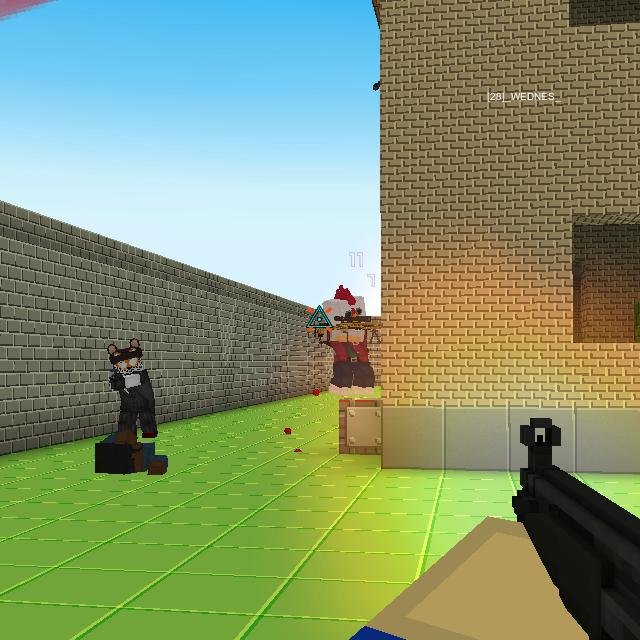enemy: (317, 284, 379, 398), (106, 339, 158, 443)
